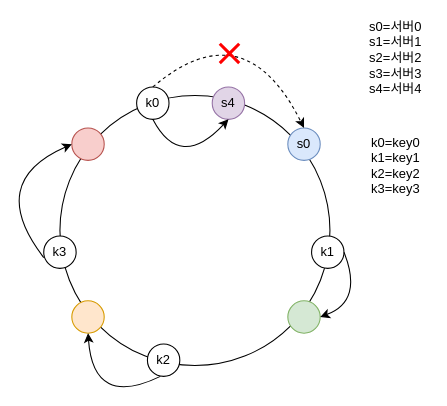
The diagram is 447 pixels wide and 406 high, and some of its shapes have lost their labels. The shapes that lost their labels are listed below. From the top down, each one's box as (x1, y1, x2, y2) in pixels, then its label:
(71, 127, 104, 160): s3
(71, 300, 104, 333): s2
(287, 300, 320, 333): s1
